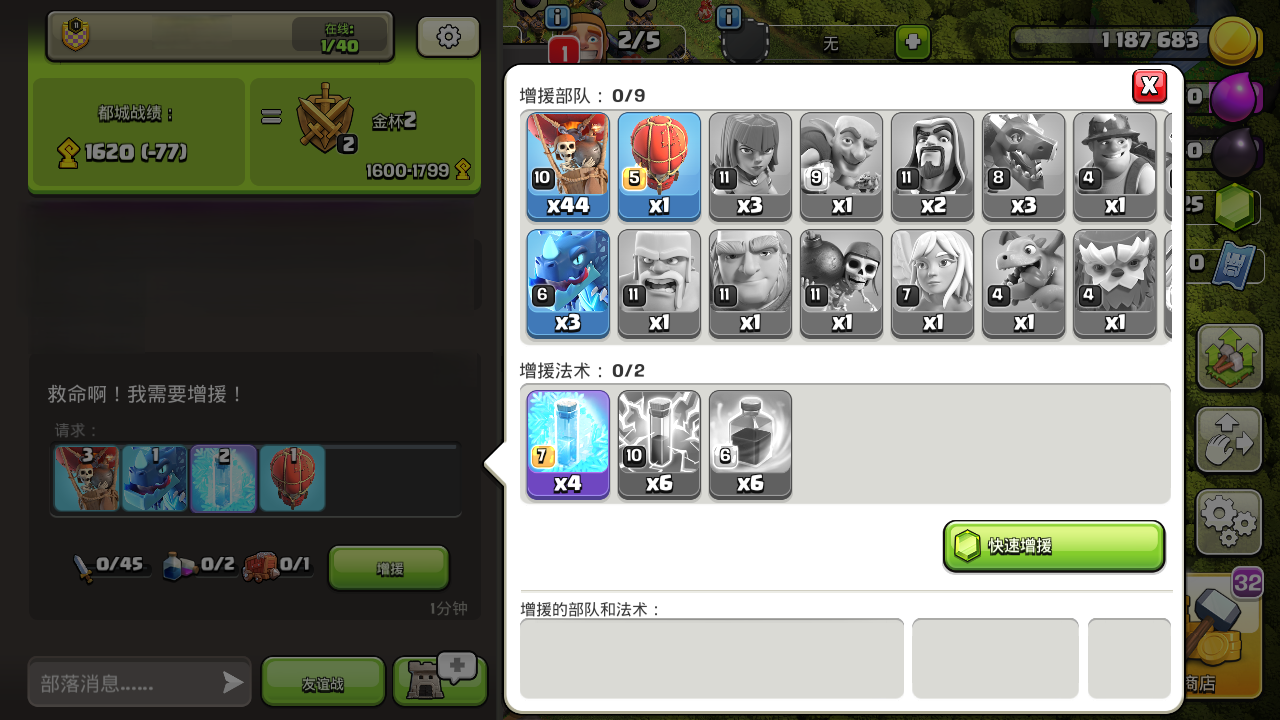bingdong: (526, 388, 613, 473)
close: (1130, 68, 1168, 103)
leilong: (528, 229, 610, 311)
qiqiu: (529, 112, 612, 197)
